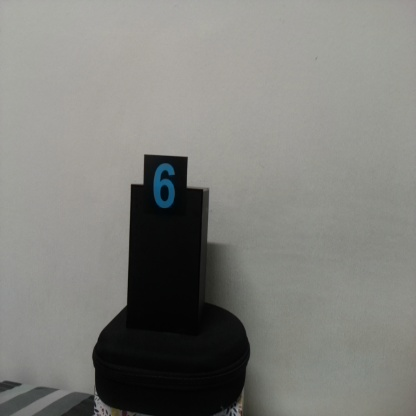id_6: (144, 156, 187, 228)
